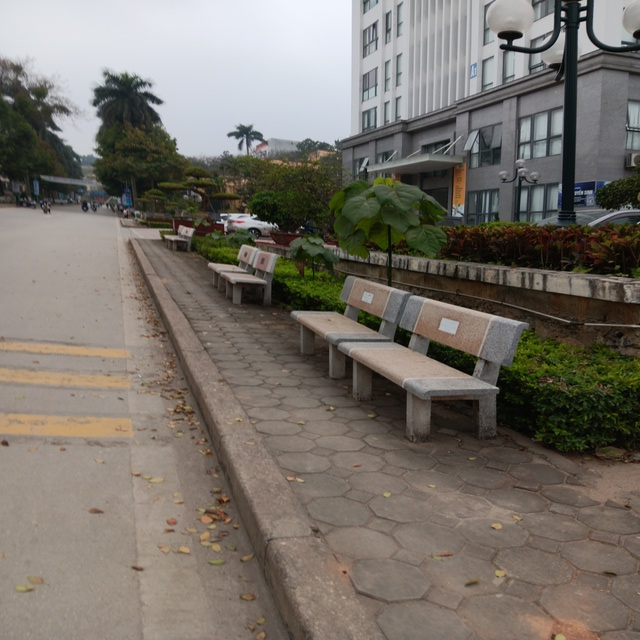gheda: (350, 291, 519, 445), (291, 272, 410, 384), (228, 251, 284, 309), (213, 244, 257, 295), (158, 222, 204, 260)
